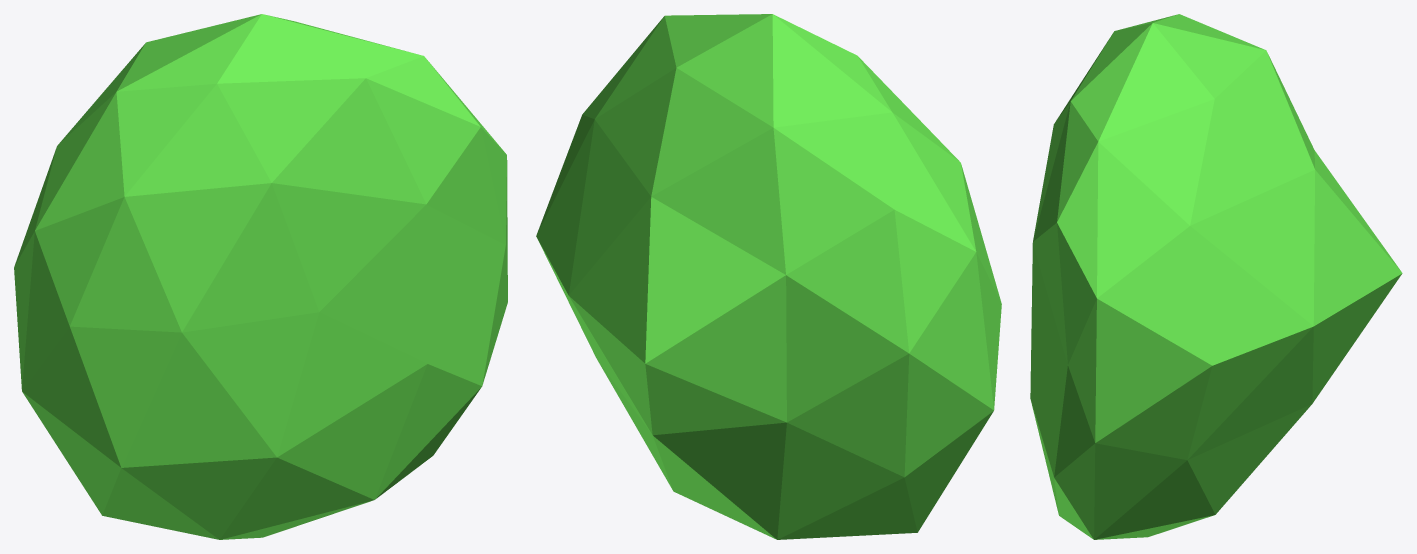
File: ENVI_bush_3.fbx
3 renders of one model, left to right at view 1: azimuth 30°, elevation 25°; view 2: azimuth 150°, elevation 25°; view 3: azimuth 270°, elevation 25°, orthographic. The views are drawn at different scales.
Parts seen in each view (by area): view 1: bush 3; view 2: bush 3; view 3: bush 3.
Boxes of the visible parts, x1,y1,x2,y2 form: bush 3: (14,14,507,539); bush 3: (536,14,1001,539); bush 3: (1030,14,1402,539).
Bounding box in the file's own units: 186 × 208 × 136.
